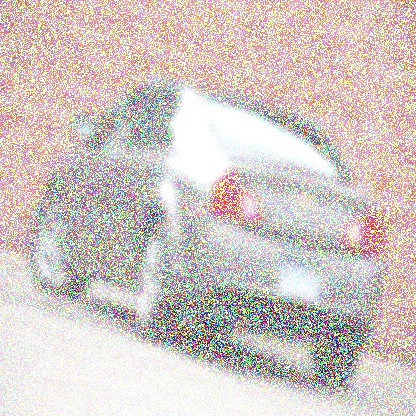Vehicle: (29, 79, 386, 390)
